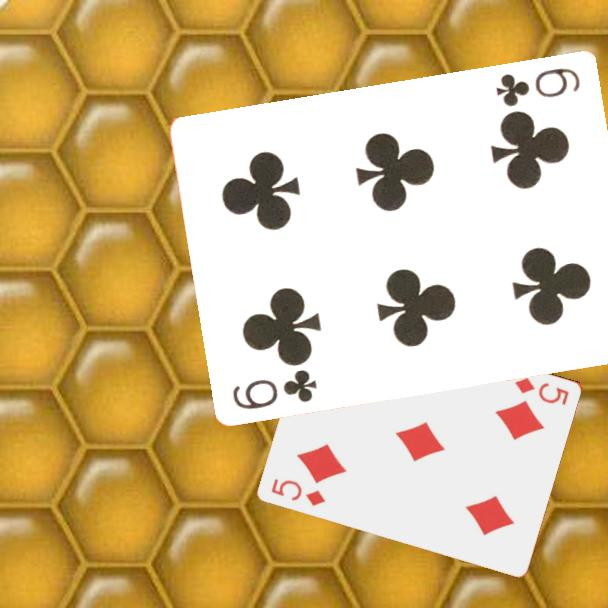c06: (229, 365, 320, 412), (493, 64, 584, 109)
d05: (268, 474, 329, 509), (512, 374, 572, 408)
